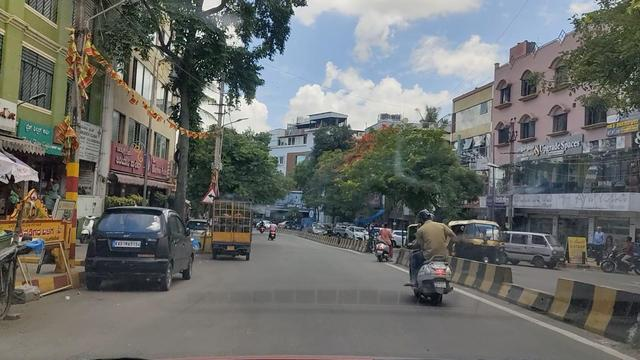LMV: (94, 210, 187, 289), (404, 217, 443, 293), (213, 198, 248, 252)
